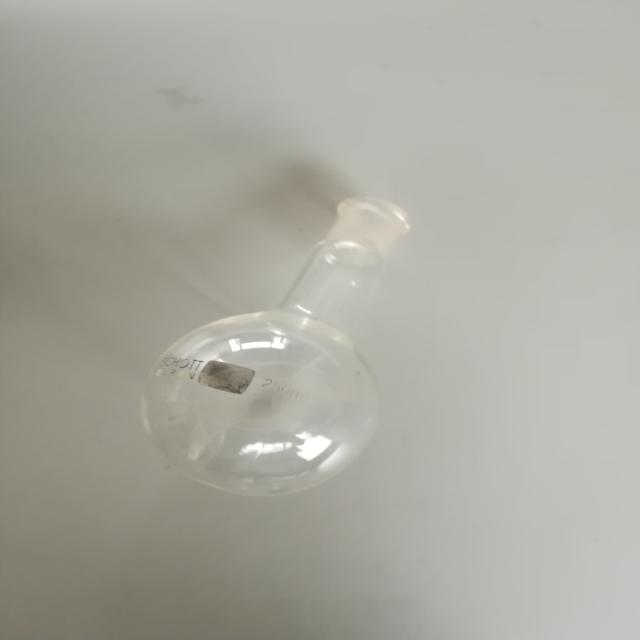Round_Bottom_Flask_Borosilicate_Glass_1_Neck: (74, 99, 490, 548)
